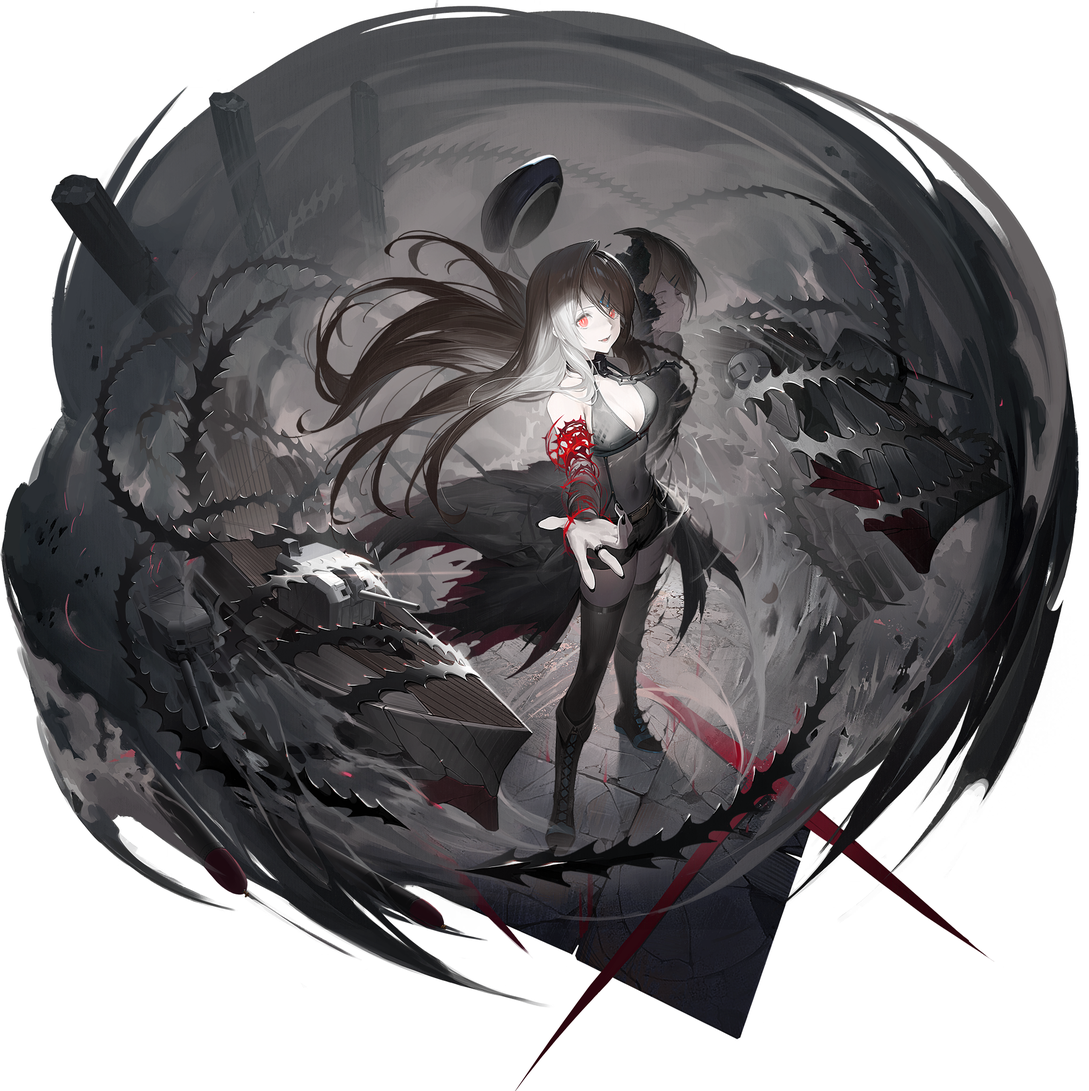person: (381, 145, 791, 903)
